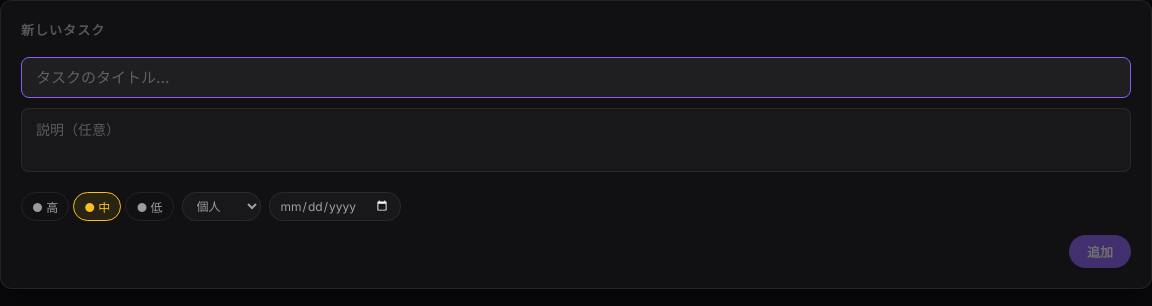
Test case: AddTodoForm › タイトルを入力すると「追加」ボタンが有効になる
Step 1. Type "テストタスク" into the field with placeholder "タスクのタイトル..." → (576, 77), box [21,56,1131,98]
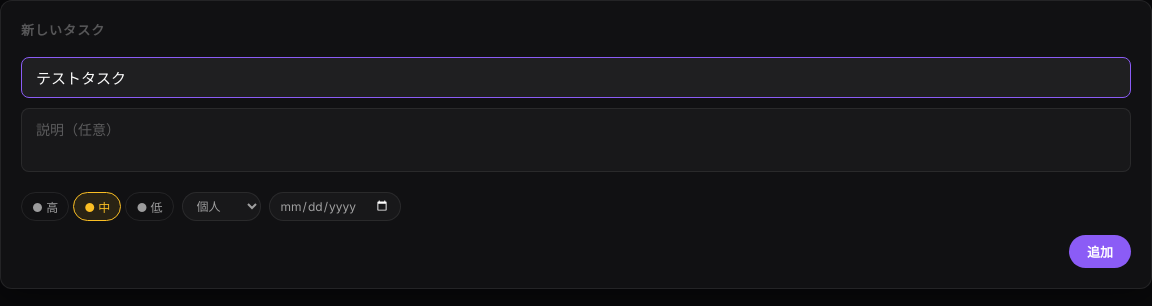
Now the button "追加" is enabled, box [1069,234,1131,268]
